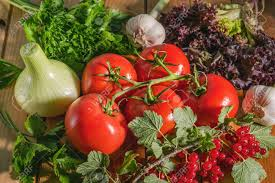Lettuce: (23, 17, 126, 45)
Onion: (129, 16, 169, 42)
Tomato: (117, 84, 183, 127), (69, 96, 118, 151), (179, 70, 232, 115), (83, 56, 137, 88), (138, 47, 187, 82)
